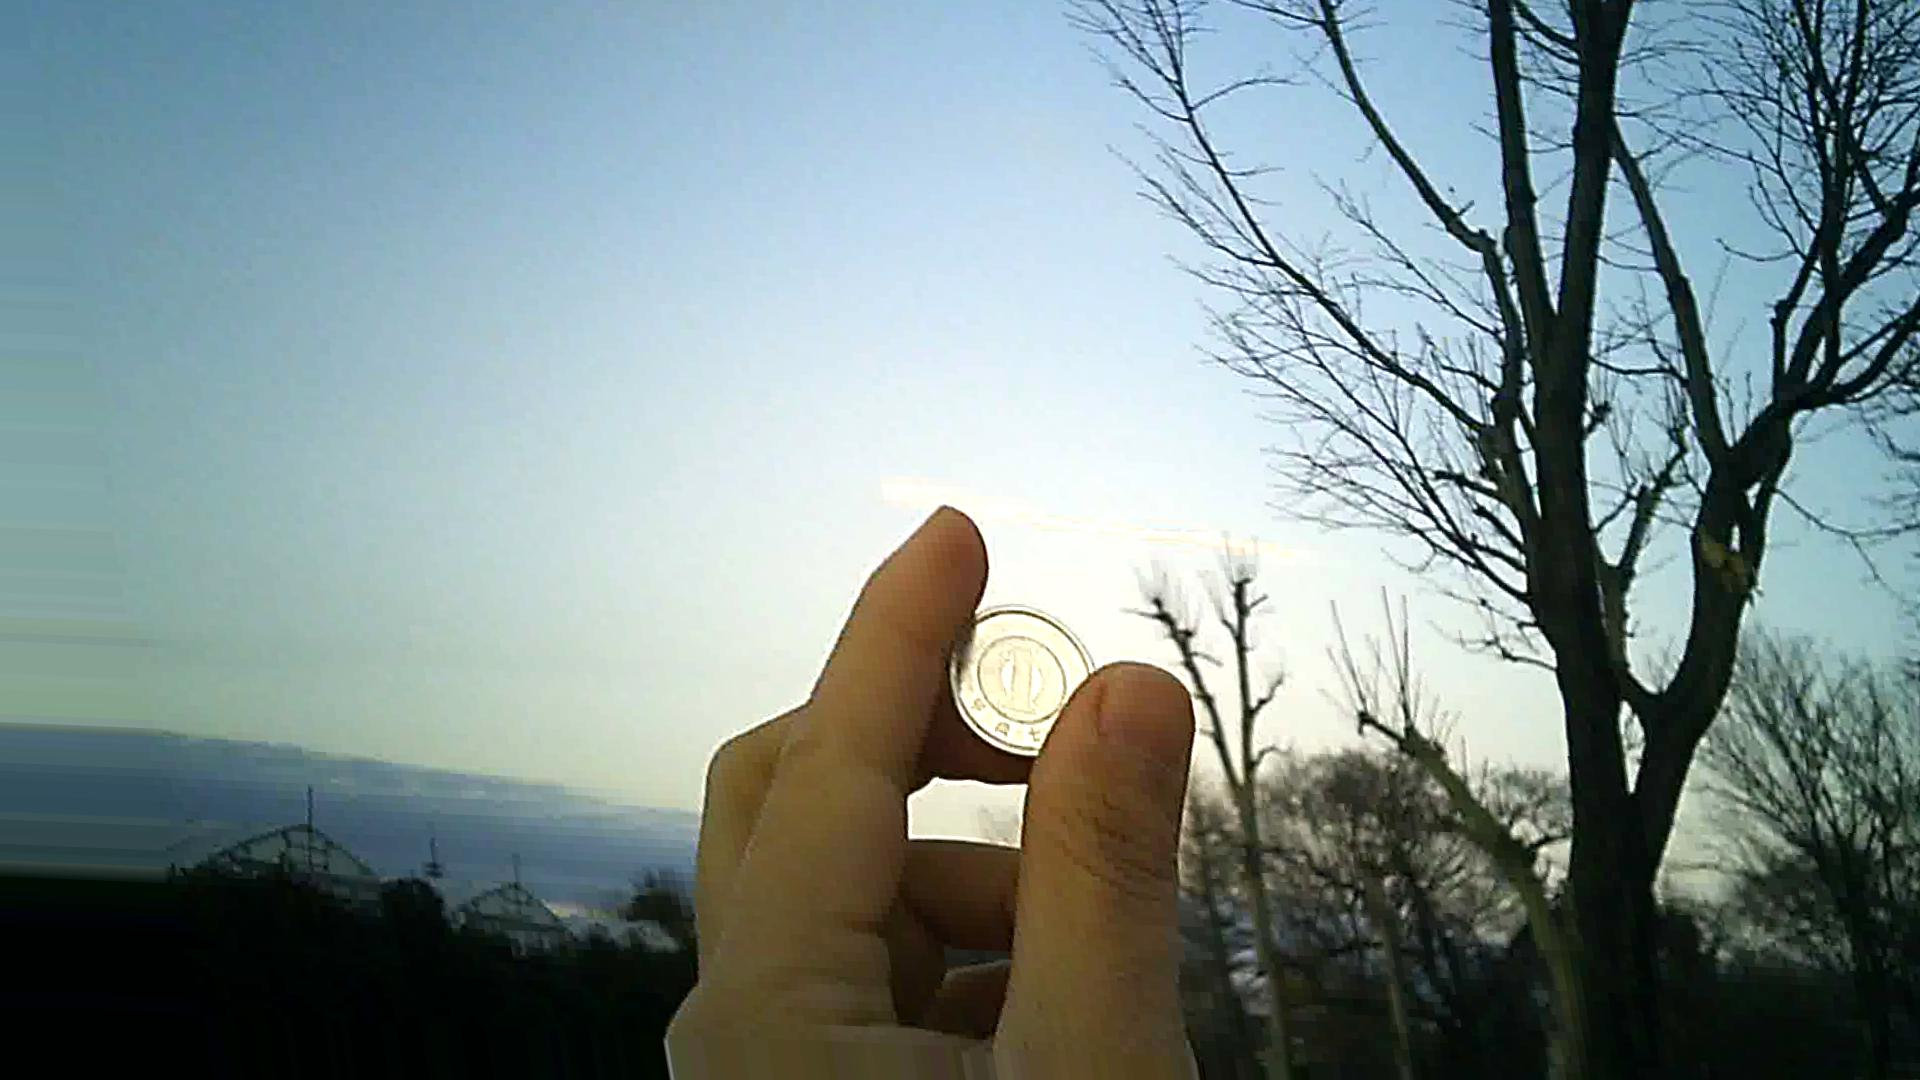1 Yen: (938, 588, 1100, 769)
